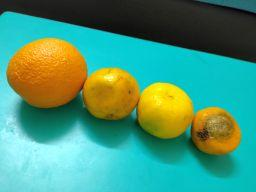orange: (6, 37, 89, 109), (136, 82, 194, 140), (82, 67, 141, 121), (190, 106, 241, 156)
